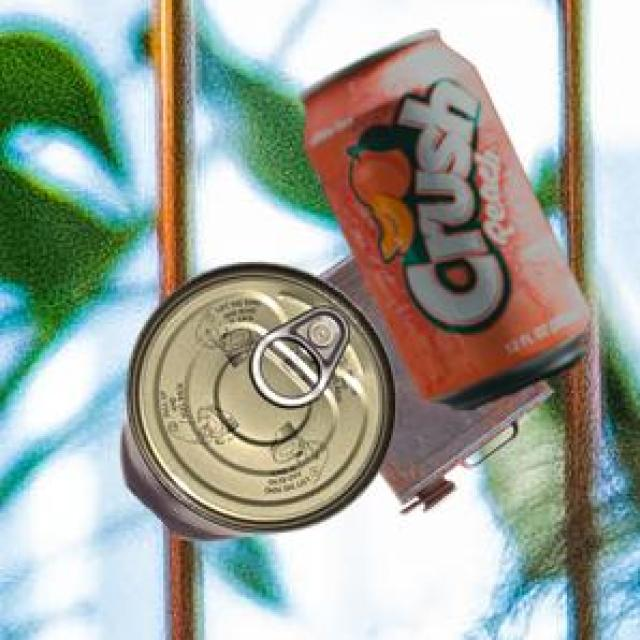logam: (297, 27, 585, 407), (117, 259, 392, 538), (317, 250, 549, 510)
